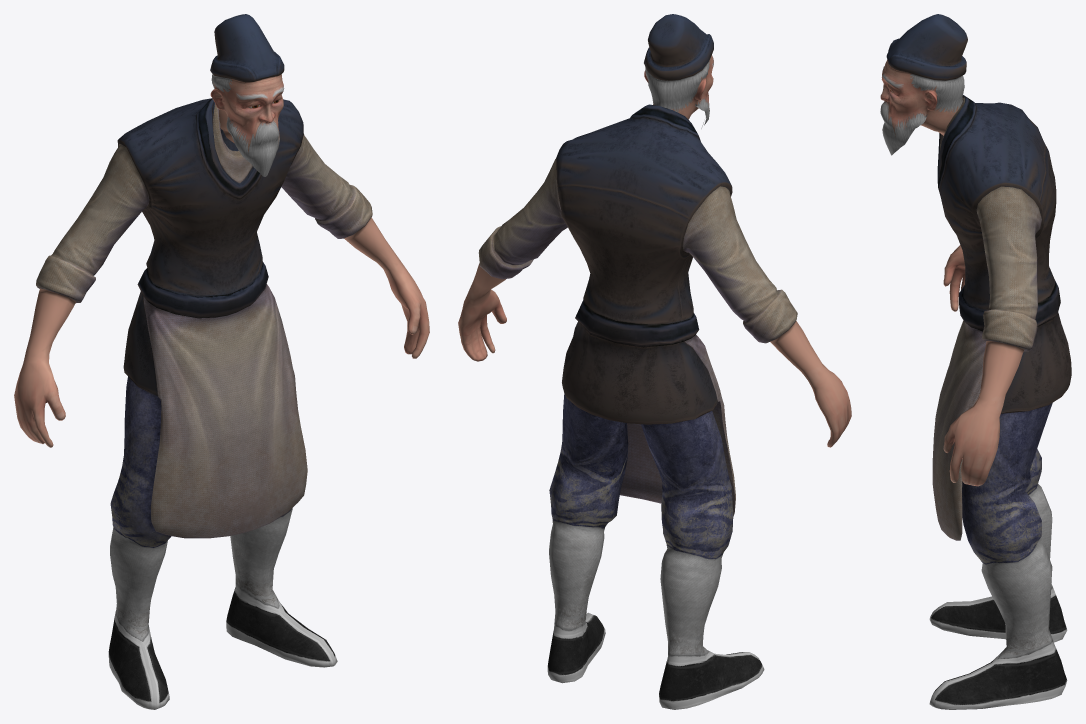
File: village_head.glb
3 renders of one model, left to right at view 1: azimuth 30°, elevation 25°; view 2: azimuth 150°, elevation 25°; view 3: azimuth 270°, elevation 25°, orthographic. The views are drawn at different scales.
Parts seen in each view (by area): view 1: Object_6; view 2: Object_6; view 3: Object_6.
Part boxes in pixels (left/top/right/bottom): Object_6: left=14, top=14, right=429, bottom=709; Object_6: left=458, top=14, right=851, bottom=709; Object_6: left=880, top=14, right=1071, bottom=709.
Size of the model in its own units: 41.8 by 66.67 by 17.83.
1 material, 1 textured.
